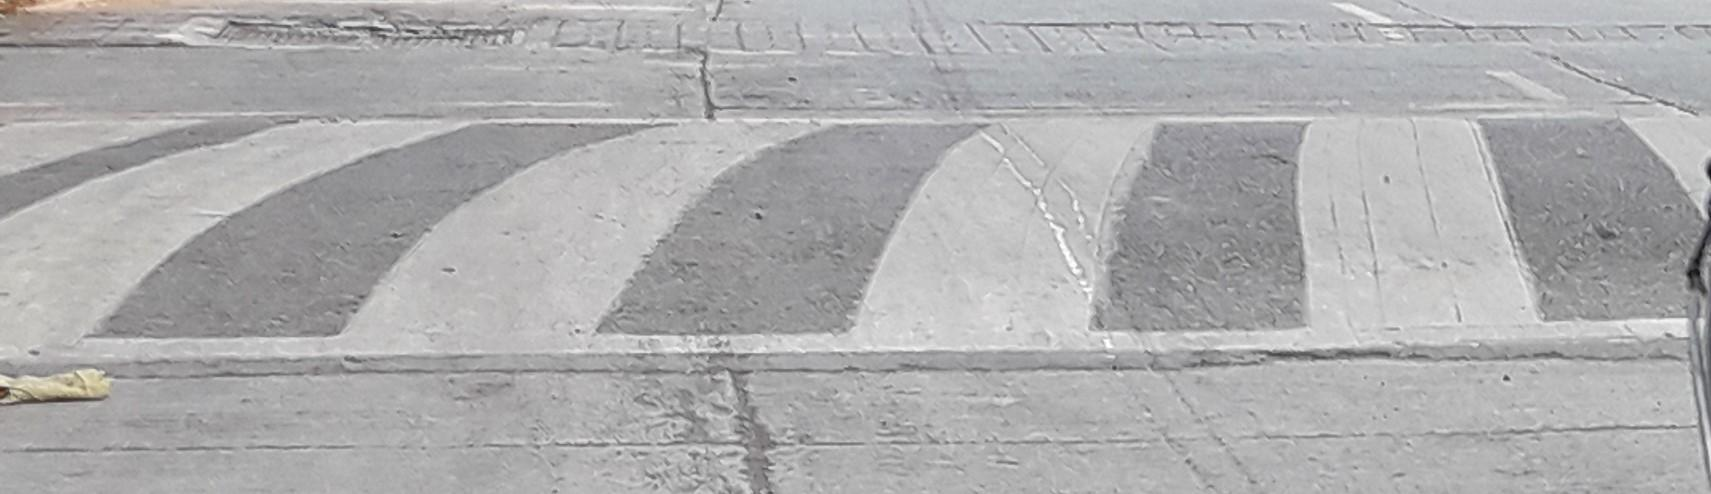speed-bump: (2, 101, 1711, 363)
